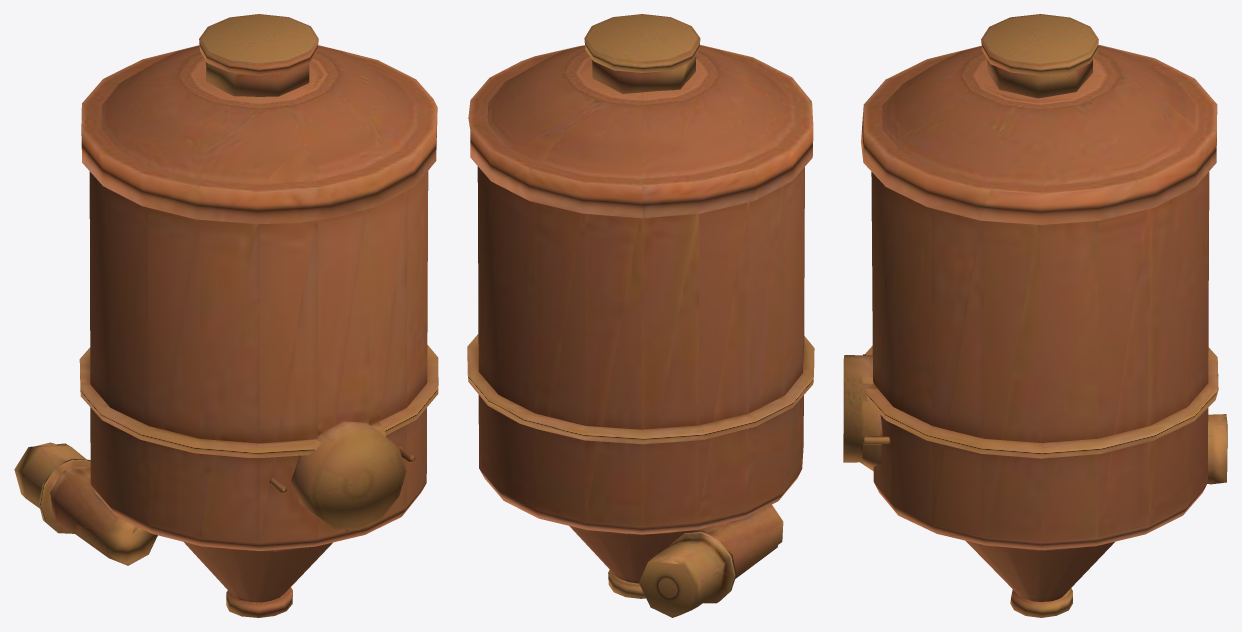
File: auto-feeder.glb
3 views of the same model, side by side, from view 1: azimuth 30°, elevation 25°; view 2: azimuth 150°, elevation 25°; view 3: azimuth 270°, elevation 25° (orthographic). The views are drawn at different scales.
Parts seen in each view (by area): view 1: auto-feeder; view 2: auto-feeder; view 3: auto-feeder.
Part boxes in pixels (left/top/right/bottom): auto-feeder: left=14, top=14, right=438, bottom=617; auto-feeder: left=467, top=14, right=814, bottom=617; auto-feeder: left=843, top=14, right=1227, bottom=617.
Size of the model in its own units: 0.2344 by 0.4 by 0.2473.
Materials: 1 (1 with a texture image).
